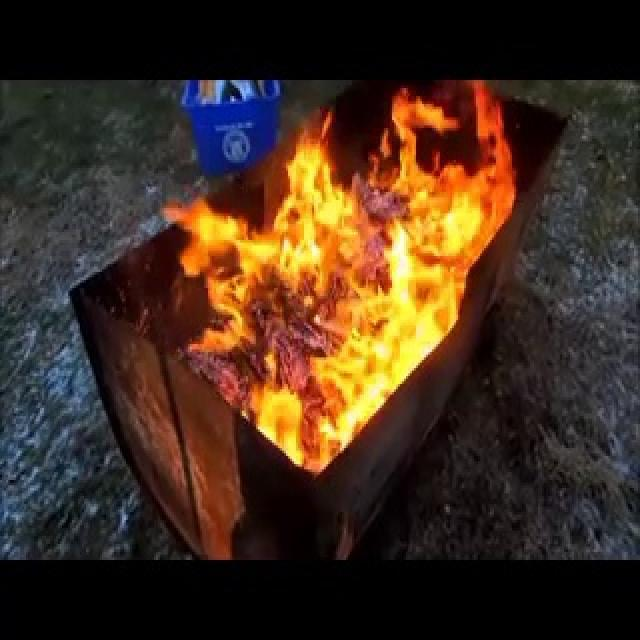Fire: (186, 82, 518, 486)
